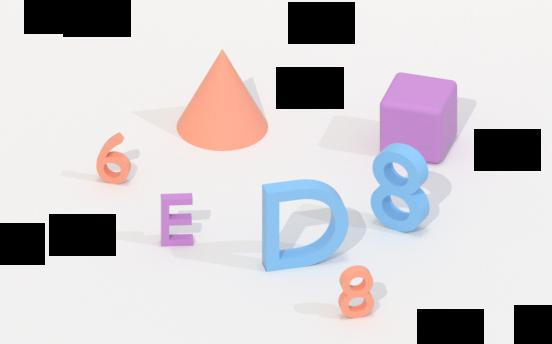6: (93, 130, 136, 186)
8: (365, 143, 435, 234), (334, 264, 378, 321)
E-hoa: (157, 190, 197, 249)
d: (253, 181, 353, 270)
hop: (371, 71, 464, 168)
non: (172, 54, 276, 148)
